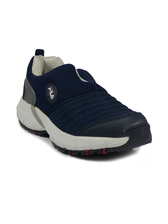shoes: (13, 47, 156, 157)
